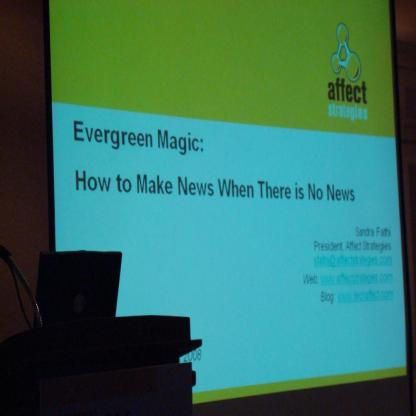board: (11, 253, 124, 334)
